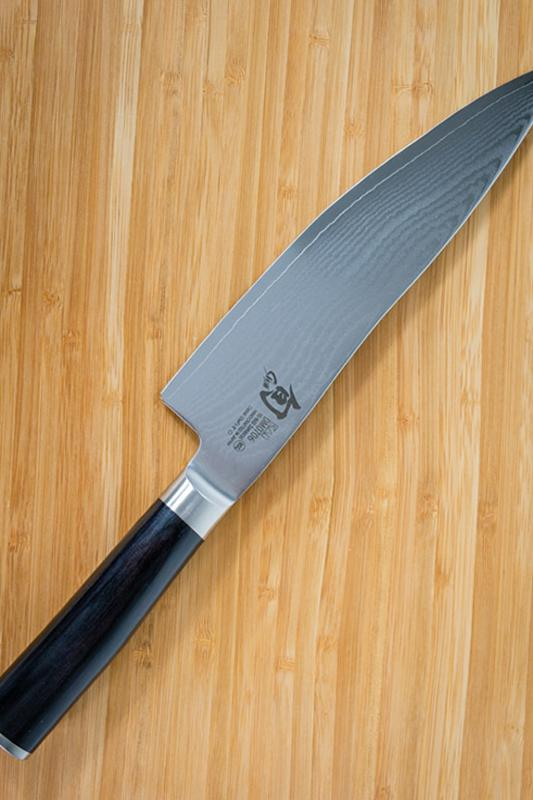knife: (2, 69, 533, 763)
